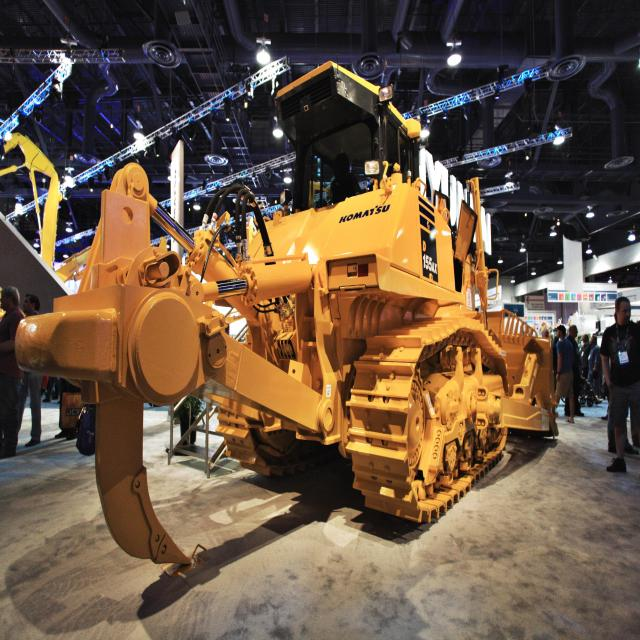Bulldozer: (39, 55, 580, 634)
